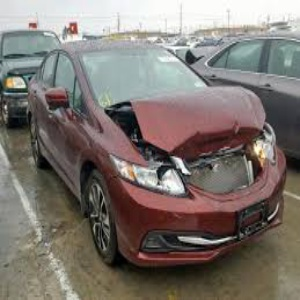bonnet: (125, 83, 267, 142)
head_lights: (110, 155, 188, 197)
